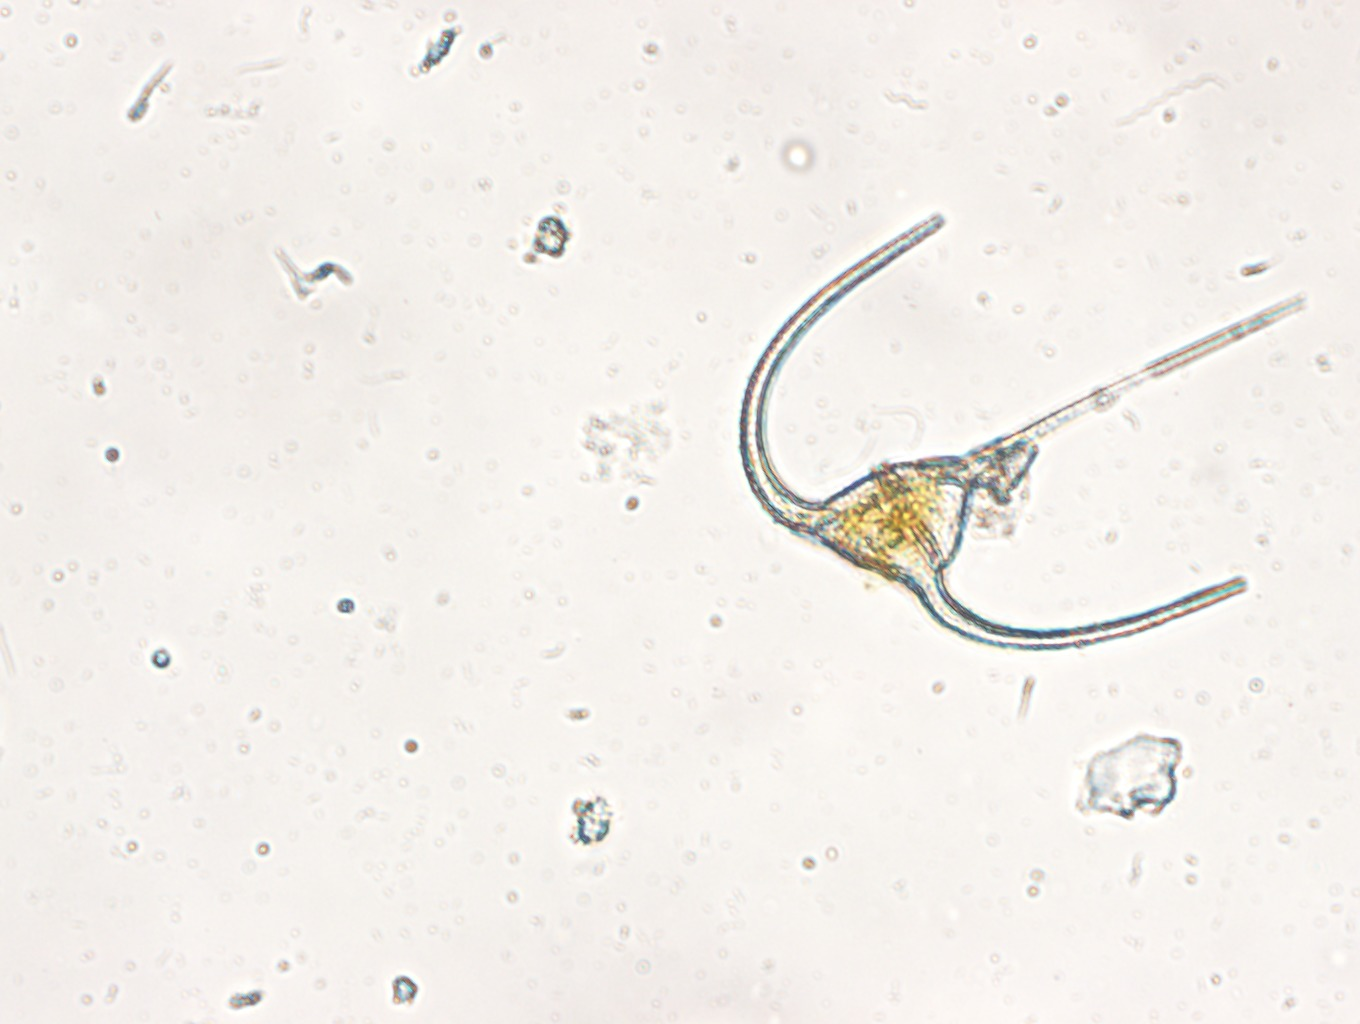ceratium trichoceros: (736, 205, 1312, 660)
